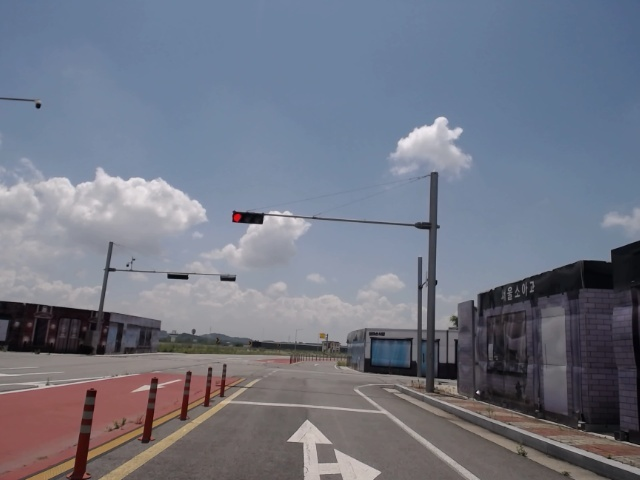red_3: (229, 209, 267, 224)
